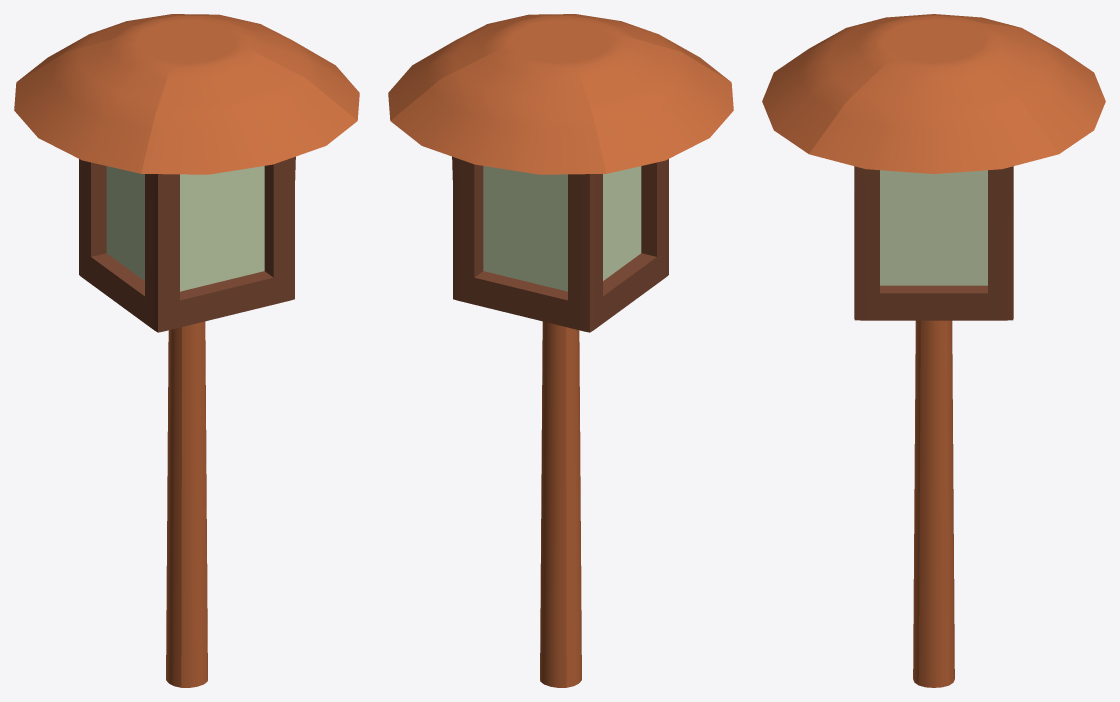
Rendered from testmodelsCube_096.fbx.
3 views of the same model, side by side, from view 1: azimuth 30°, elevation 25°; view 2: azimuth 150°, elevation 25°; view 3: azimuth 270°, elevation 25° (orthographic).
Visible parts, largest first — view 1: Cube.096; view 2: Cube.096; view 3: Cube.096.
Boxes of the visible parts, bbox=[...] form: Cube.096: bbox=[14, 14, 359, 687]; Cube.096: bbox=[388, 14, 733, 687]; Cube.096: bbox=[762, 14, 1105, 687].
Bounding box in the file's own units: 155 × 316 × 155.
